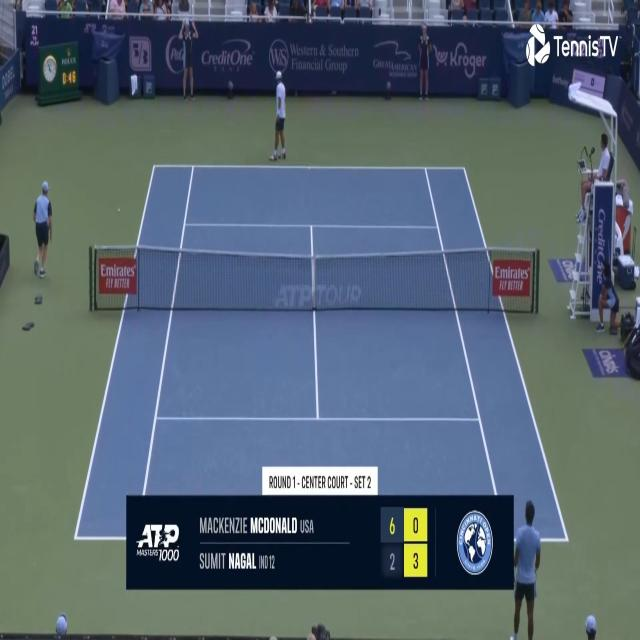tennis-player: (509, 496, 542, 639), (268, 67, 289, 165)
